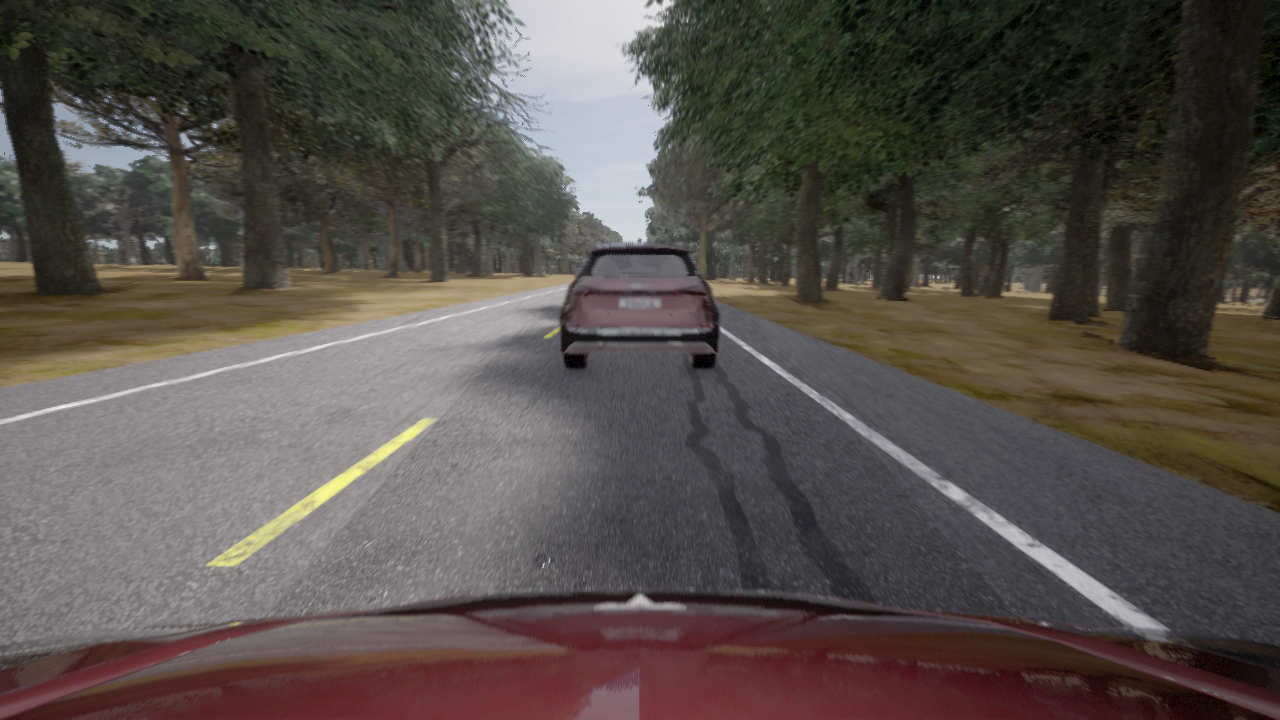cyclist: (0, 588, 1279, 719), (560, 237, 719, 369), (573, 260, 585, 277)
